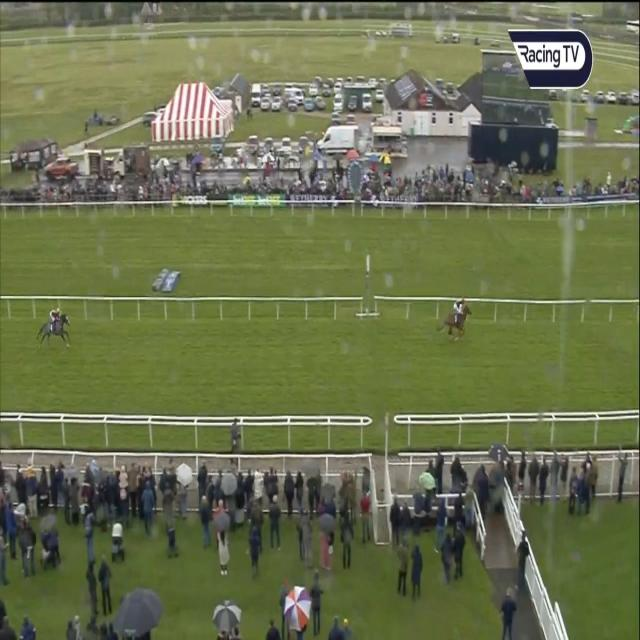horses-racing: (36, 302, 72, 352), (439, 298, 477, 344)
